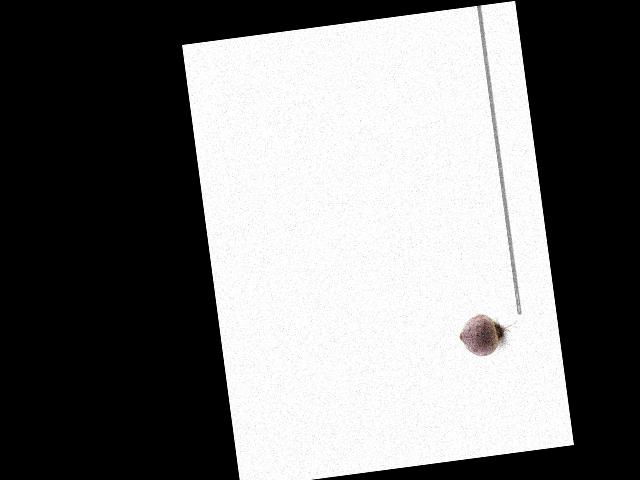beet: (456, 308, 524, 358)
